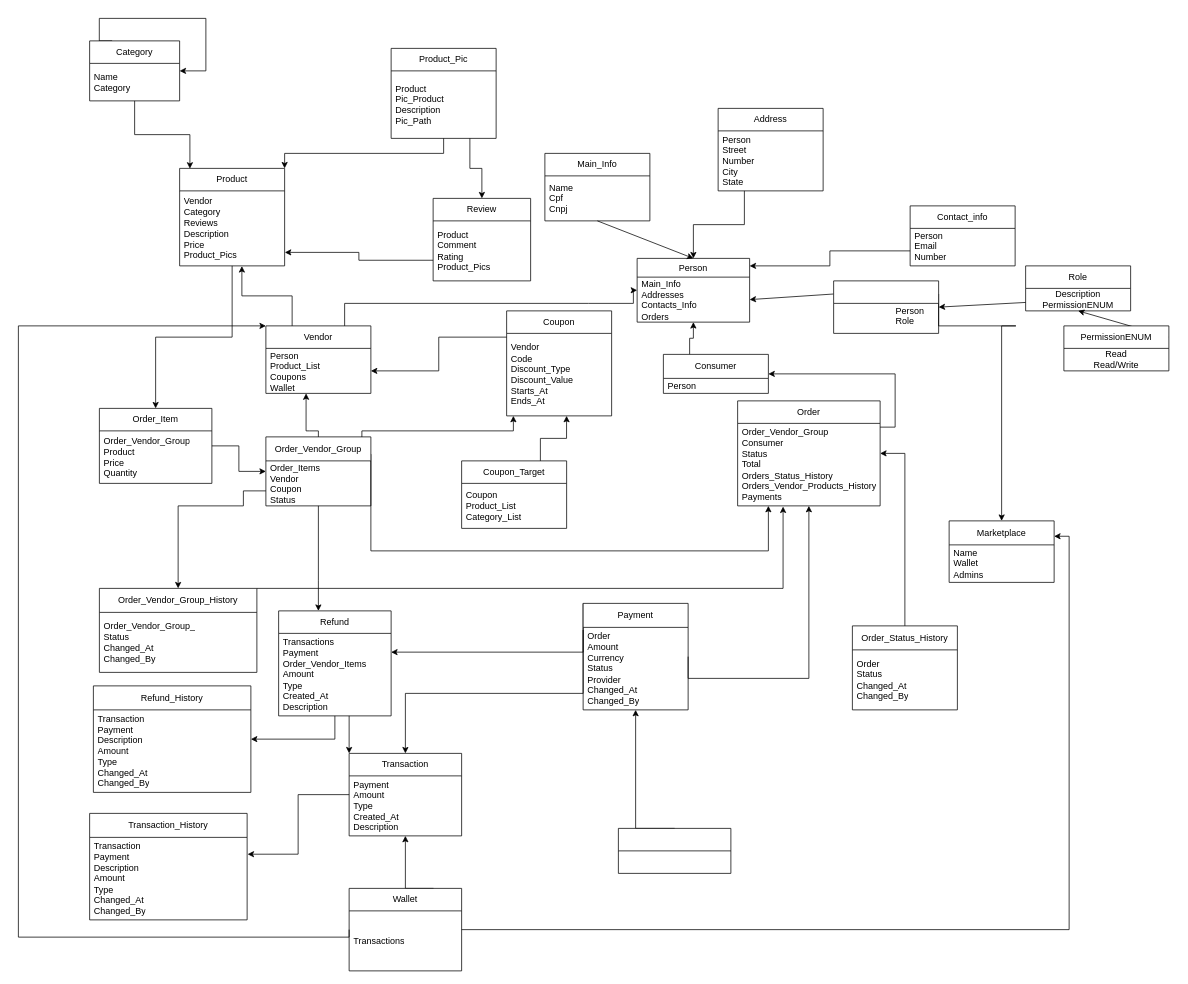
This 1188x984 diagram has some shape labels left out. Here are the shapes that lost their labels. From the top down, the centre of each, then its label:
(886,306): Admin
(674,850): Provider
